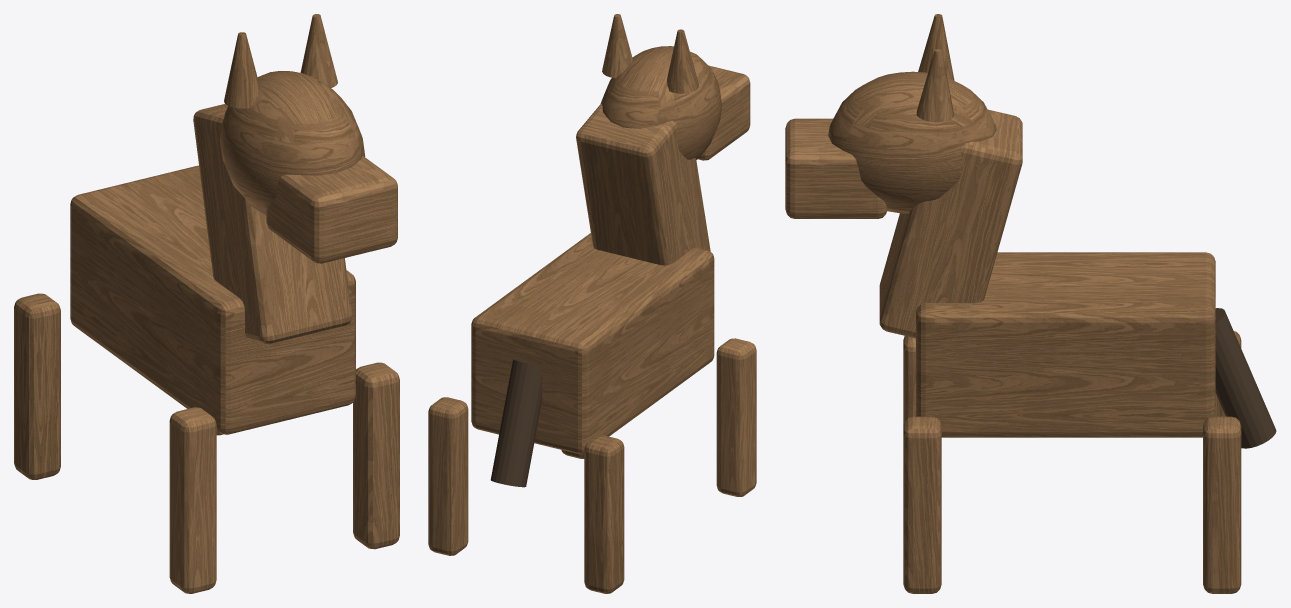
File: hiperreal.glb
3 views of the same model, side by side, from view 1: azimuth 30°, elevation 25°; view 2: azimuth 150°, elevation 25°; view 3: azimuth 270°, elevation 25° (orthographic). The views are drawn at different scales.
Parts seen in each view (by area): view 1: Horse body, Horse neck, Horse head, Muzzle, Leg.001, Leg, Leg.003, Ear, Ear.001; view 2: Horse body, Horse neck, Horse head, Leg.002, Leg, Leg.001, Tail, Muzzle, Ear, Ear.001; view 3: Horse body, Horse neck, Horse head, Muzzle, Leg.003, Leg.002, Tail, Ear.001, Leg.001, Ear.
Boxes of the visible parts, box(x1,y1,x2,y2) form: Horse body: box(70, 165, 355, 434); Horse neck: box(193, 104, 351, 344); Horse head: box(220, 71, 365, 215); Muzzle: box(266, 156, 397, 263); Leg.001: box(169, 407, 216, 593); Leg: box(14, 293, 60, 479); Leg.003: box(353, 362, 399, 549); Ear: box(224, 32, 260, 108); Ear.001: box(300, 14, 337, 87); Horse body: box(471, 233, 714, 454); Horse neck: box(576, 103, 710, 265); Horse head: box(600, 46, 721, 159); Leg.002: box(428, 397, 468, 555); Leg: box(584, 435, 624, 593); Leg.001: box(716, 338, 756, 496); Tail: box(490, 359, 542, 487); Muzzle: box(698, 65, 750, 160); Ear: box(667, 29, 698, 93); Ear.001: box(602, 14, 632, 78); Horse body: box(916, 252, 1215, 437); Horse neck: box(879, 109, 1022, 338); Horse head: box(828, 71, 996, 213); Muzzle: box(785, 118, 887, 218); Leg.003: box(903, 416, 941, 593); Leg.002: box(1203, 416, 1241, 593); Tail: box(1215, 308, 1276, 448); Ear.001: box(916, 49, 954, 122); Leg.001: box(903, 336, 915, 425); Ear: box(918, 14, 954, 80).
Bounding box in the file's own units: 0.475 × 1.11 × 0.9628.
Materials: 3 (1 with a texture image).
